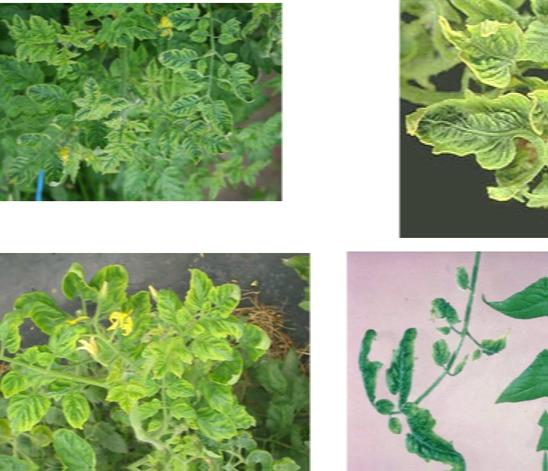Tomato leaf yellow virus: (401, 92, 548, 172), (431, 12, 548, 92), (9, 387, 55, 438), (92, 269, 136, 314), (223, 66, 265, 109), (207, 104, 250, 144), (199, 407, 243, 446), (210, 282, 256, 319), (50, 318, 89, 358), (64, 390, 100, 433), (192, 336, 237, 366), (0, 304, 24, 356), (9, 154, 49, 185), (157, 51, 199, 79), (158, 289, 187, 329), (171, 96, 216, 120), (168, 6, 205, 33), (202, 135, 241, 157), (1, 375, 34, 400), (182, 140, 208, 171), (33, 19, 57, 51), (57, 46, 77, 82), (160, 128, 179, 164), (127, 26, 159, 47), (168, 380, 200, 401), (84, 76, 103, 108), (153, 360, 179, 382), (14, 16, 33, 46), (148, 338, 174, 359), (16, 42, 37, 65), (111, 98, 137, 116), (105, 385, 129, 403), (130, 384, 157, 399), (78, 111, 99, 124), (119, 146, 136, 162)
